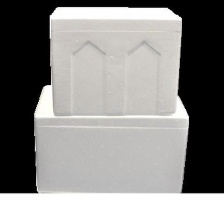foam_box: (30, 82, 194, 192), (43, 3, 186, 119)
